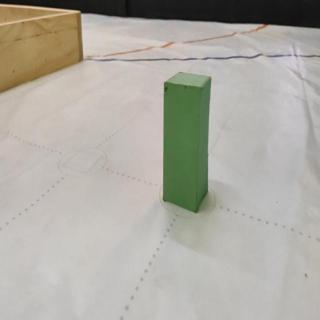greenbox: (163, 69, 213, 216)
